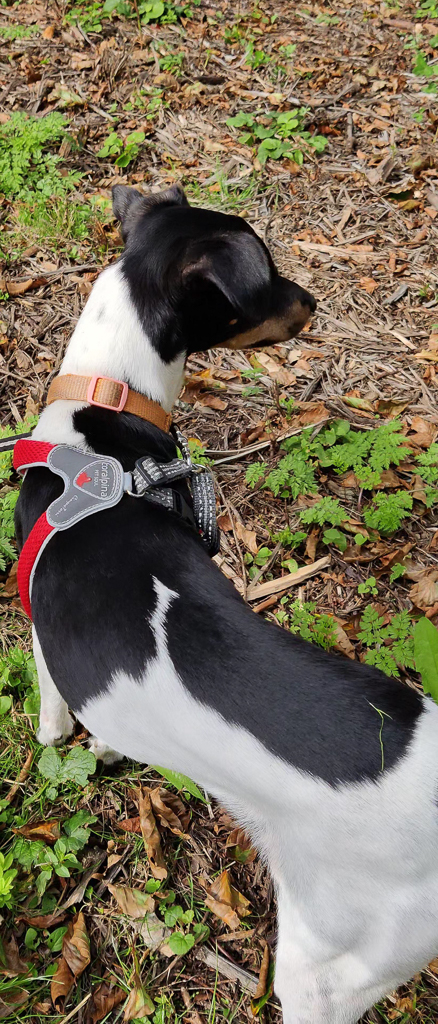Dog: (5, 172, 438, 1024)
